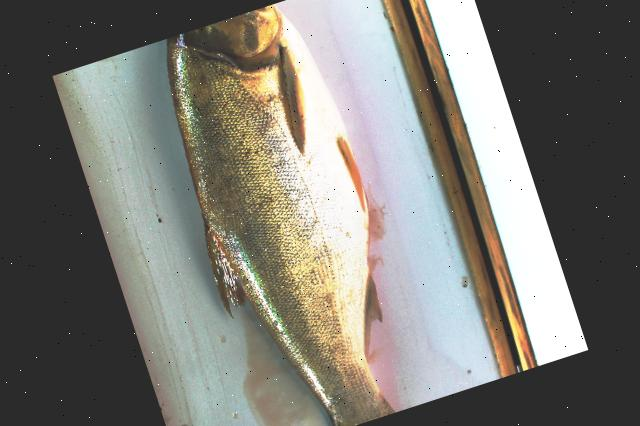Healthy Fish: (166, 5, 394, 426)
